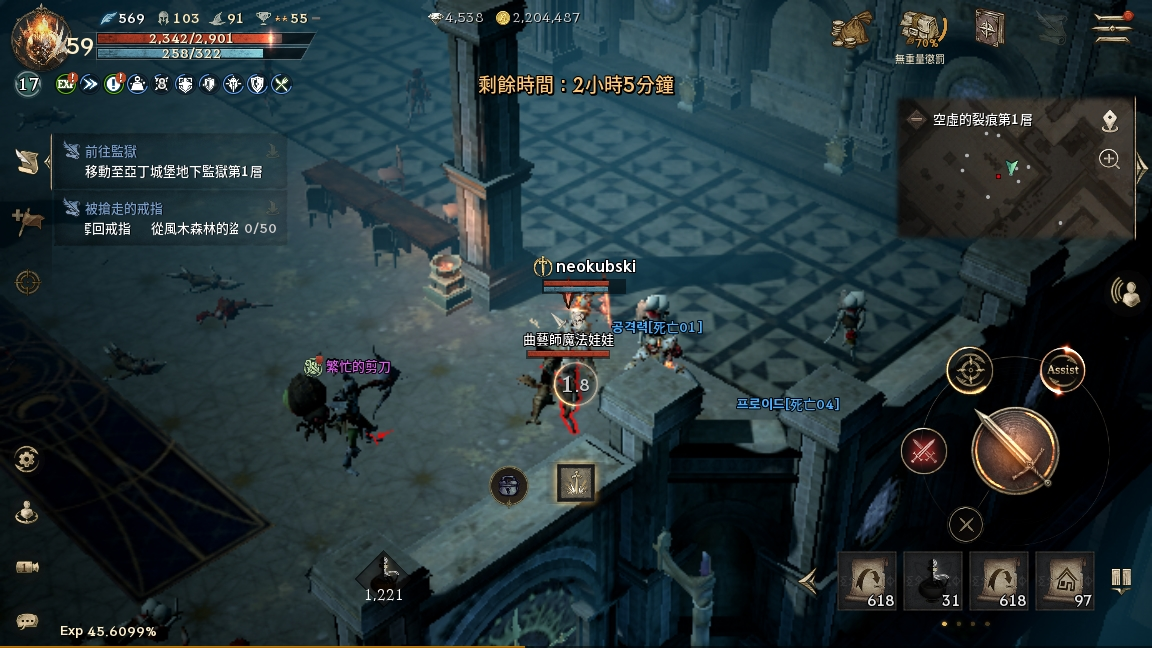enemy: (302, 354, 325, 379)
